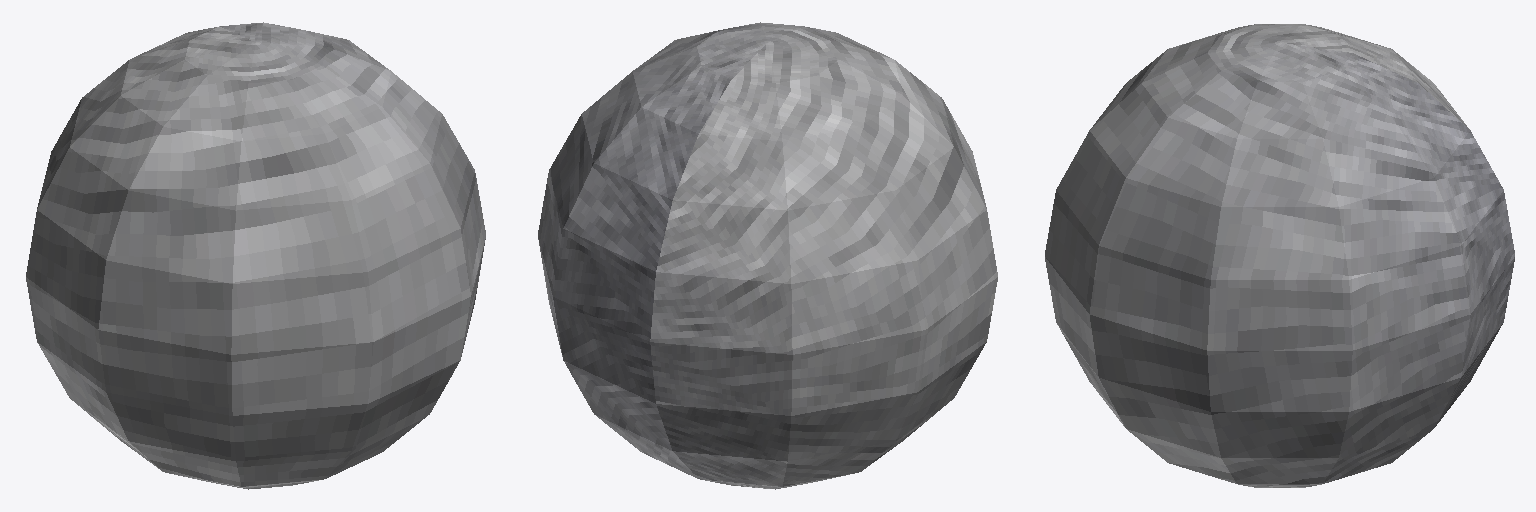
3 renders of one model, left to right at view 1: azimuth 30°, elevation 25°; view 2: azimuth 150°, elevation 25°; view 3: azimuth 270°, elevation 25°, orthographic.
Parts seen in each view (by area): view 1: Sphere; view 2: Sphere; view 3: Sphere.
Boxes of the visible parts, x1,y1,x2,y2 form: Sphere: [26, 22, 485, 489]; Sphere: [538, 22, 997, 489]; Sphere: [1045, 24, 1514, 487].
Bounding box in the file's own units: 1.9 × 2 × 2.
Materials: 1 (1 with a texture image).